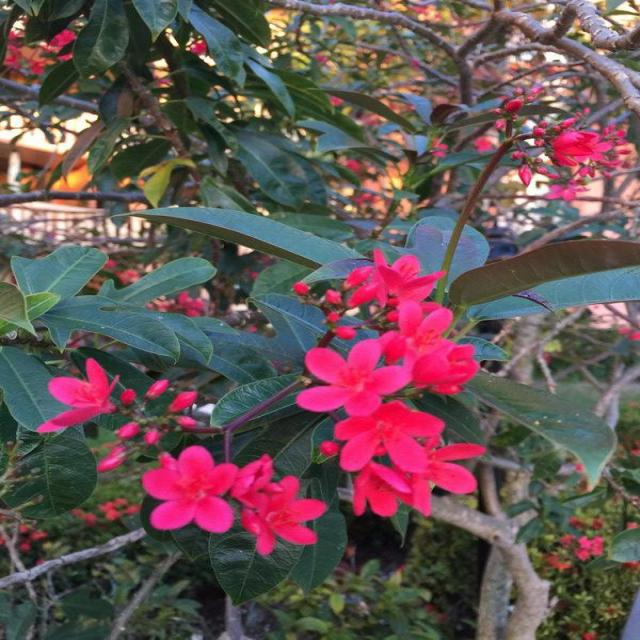other: (45, 255, 519, 542), (466, 64, 625, 207)
